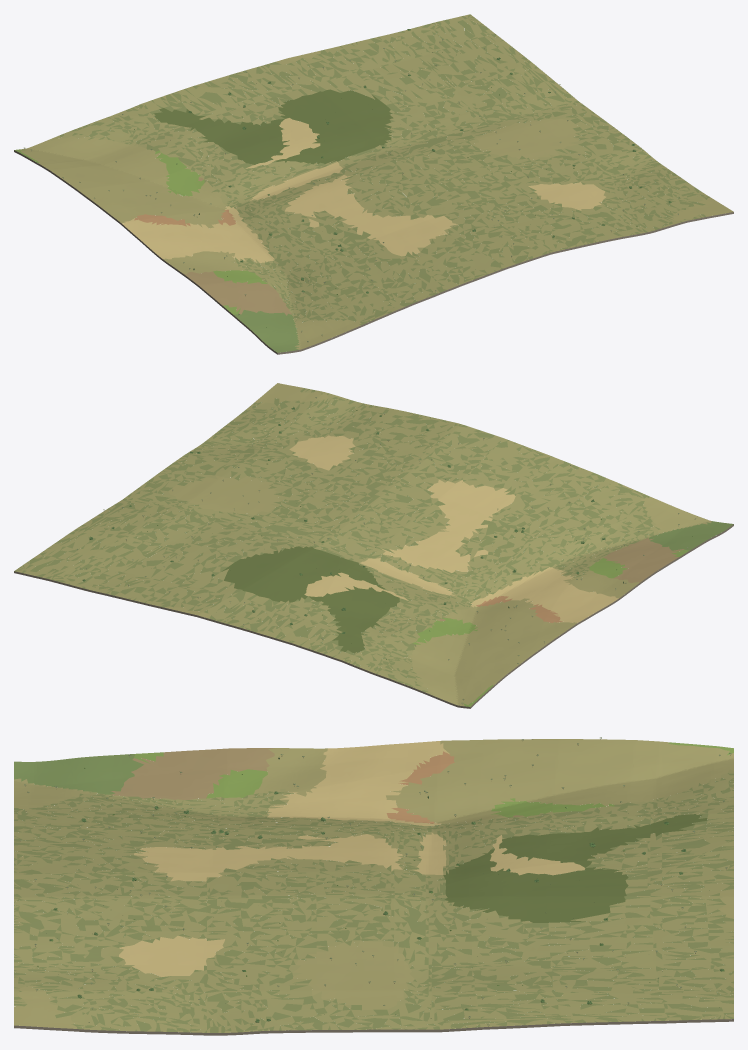
Rendered from parca_+1_-1-yakin.glb.
3 views of the same model, one above another, from view 1: azimuth 30°, elevation 25°; view 2: azimuth 150°, elevation 25°; view 3: azimuth 270°, elevation 25° (orthographic). The views are drawn at different scales.
Visible parts, largest first — view 1: parca_+1_-1_arazi, parca_+1_-1_bitkiler; view 2: parca_+1_-1_arazi, parca_+1_-1_bitkiler; view 3: parca_+1_-1_arazi, parca_+1_-1_bitkiler.
Part boxes in pixels (x1,y1,x2,y2): parca_+1_-1_arazi: (14,14,733,354); parca_+1_-1_bitkiler: (24,22,679,341); parca_+1_-1_arazi: (14,383,733,708); parca_+1_-1_bitkiler: (76,397,695,704); parca_+1_-1_arazi: (14,739,733,1035); parca_+1_-1_bitkiler: (20,737,731,1027).
Size of the model in its own units: 1002 by 89.65 by 1000.
